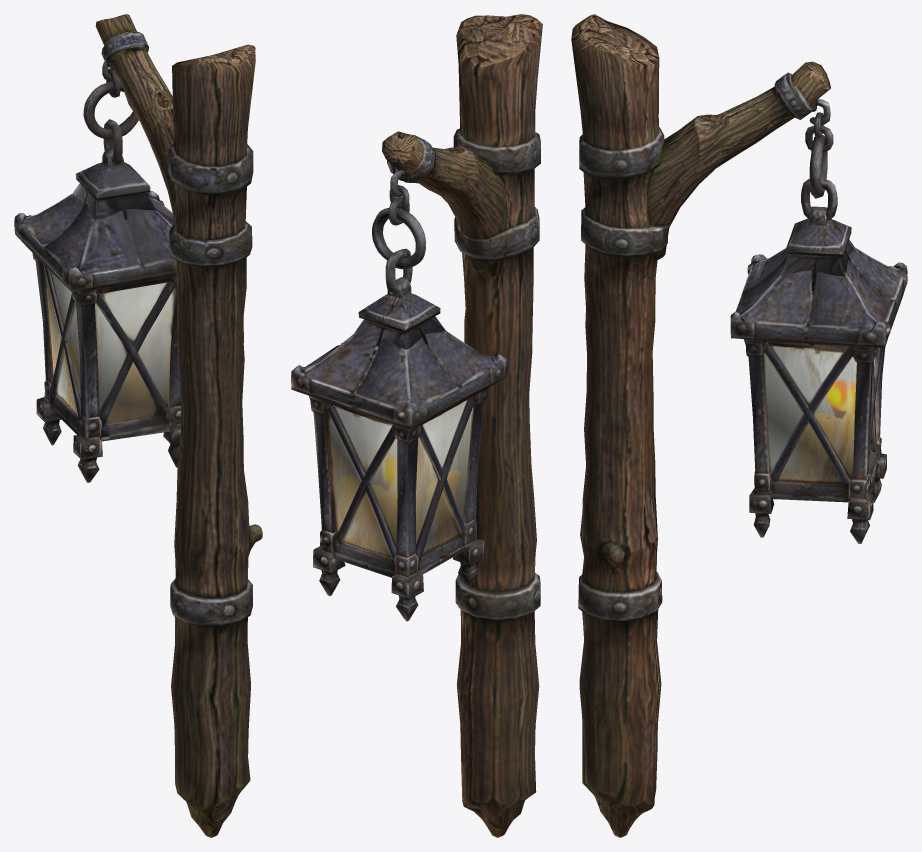
File: SM_Env_SherwoodTreeLantern.fbx
3 views of the same model, side by side, from view 1: azimuth 30°, elevation 25°; view 2: azimuth 150°, elevation 25°; view 3: azimuth 270°, elevation 25° (orthographic). The views are drawn at different scales.
Parts seen in each view (by area): view 1: SM_Env_SherwoodTreeLantern; view 2: SM_Env_SherwoodTreeLantern; view 3: SM_Env_SherwoodTreeLantern.
Boxes of the visible parts, x1,y1,x2,y2 form: SM_Env_SherwoodTreeLantern: (14, 14, 262, 837); SM_Env_SherwoodTreeLantern: (291, 14, 542, 837); SM_Env_SherwoodTreeLantern: (571, 14, 907, 837).
Size of the model in its own units: 9.36 by 18.03 by 48.
Materials: 1 (1 with a texture image).
